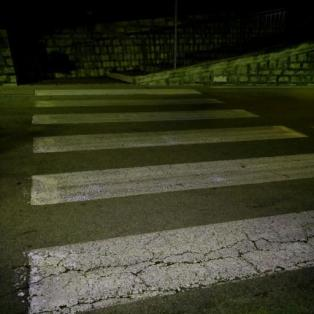Paso de Cebra: (20, 107, 312, 158)
